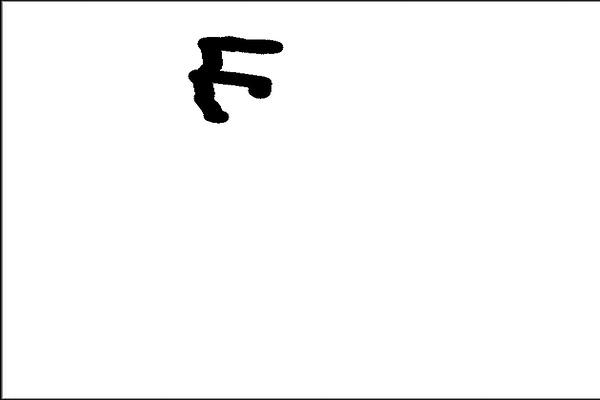F: (185, 31, 288, 126)
